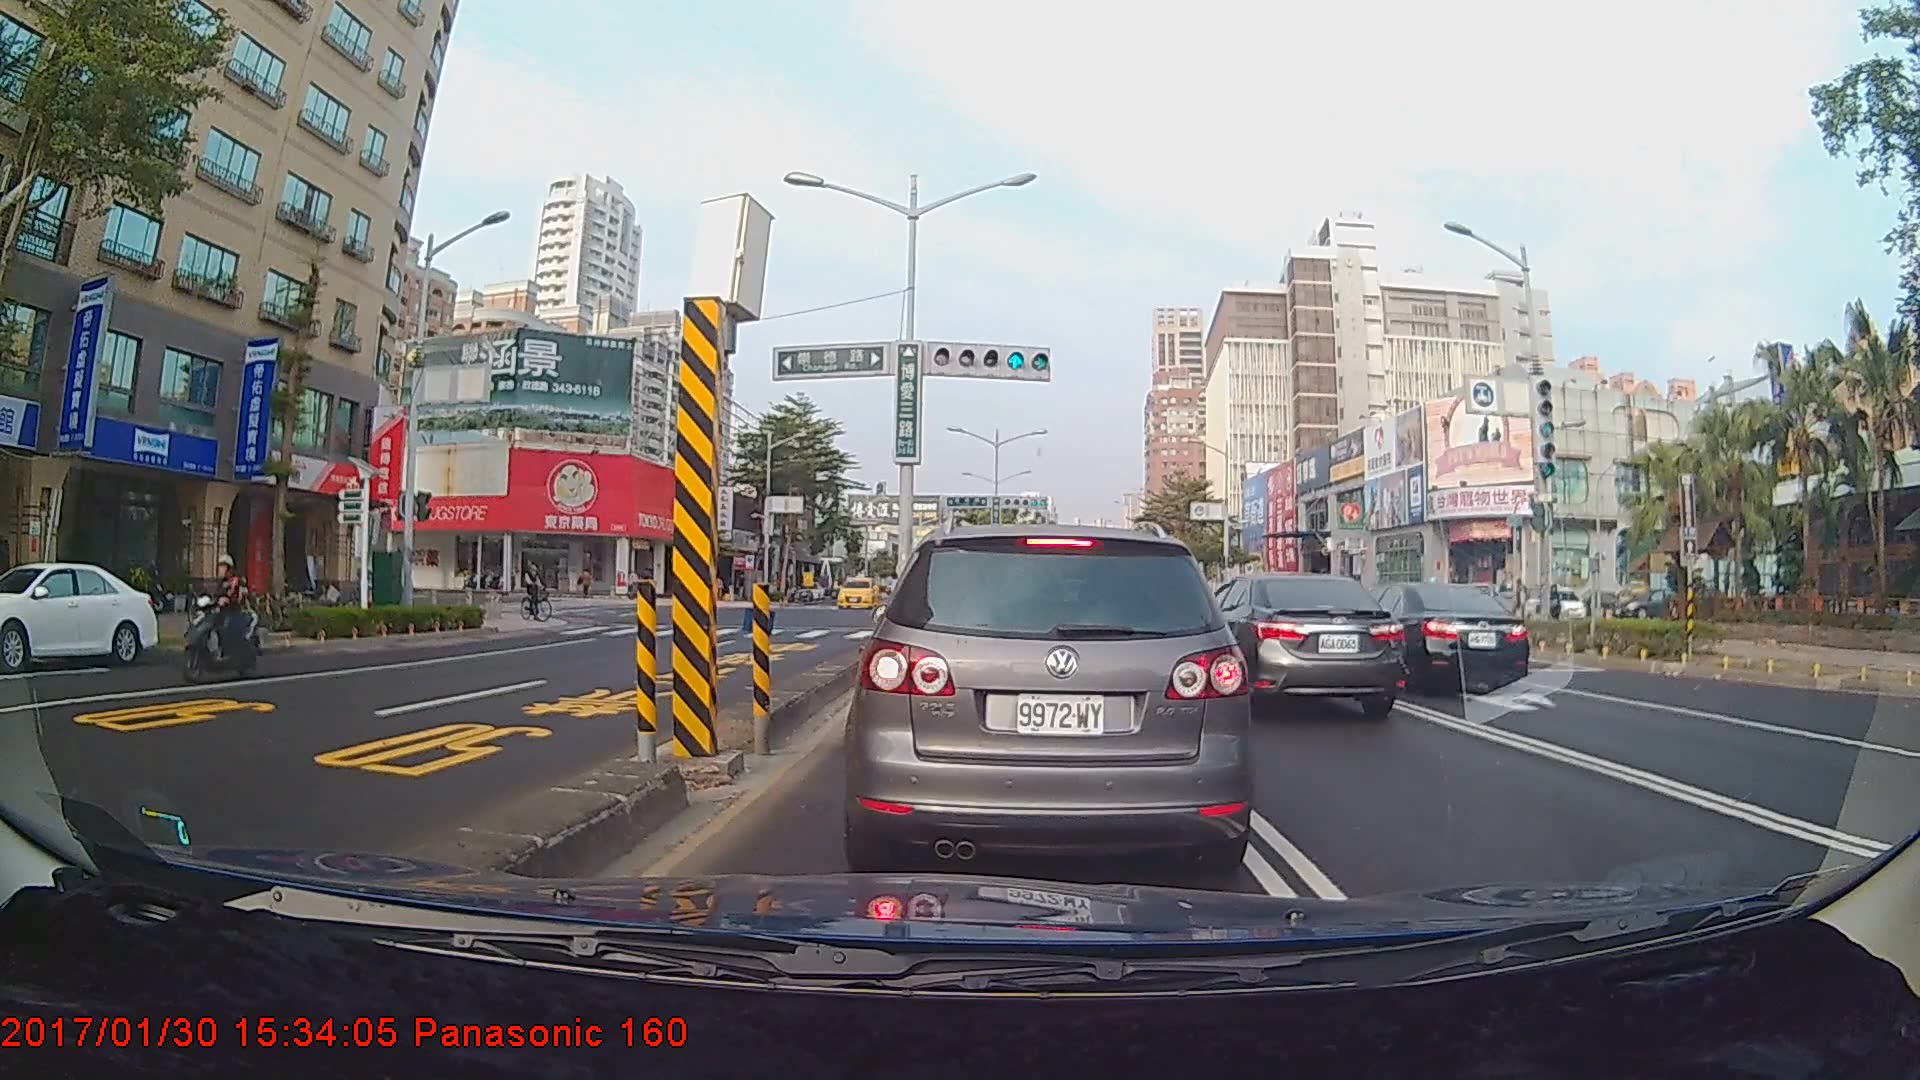rider: (173, 555, 264, 684), (518, 559, 561, 627)
vehicle: (859, 521, 1240, 868), (1178, 569, 1406, 724), (1352, 580, 1537, 700), (0, 561, 162, 671), (836, 577, 879, 610)
